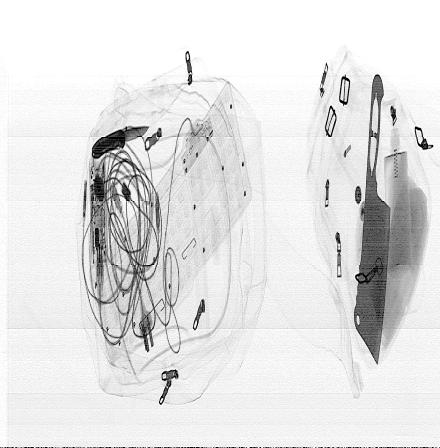Knife: (354, 73, 391, 366), (92, 126, 150, 159)
